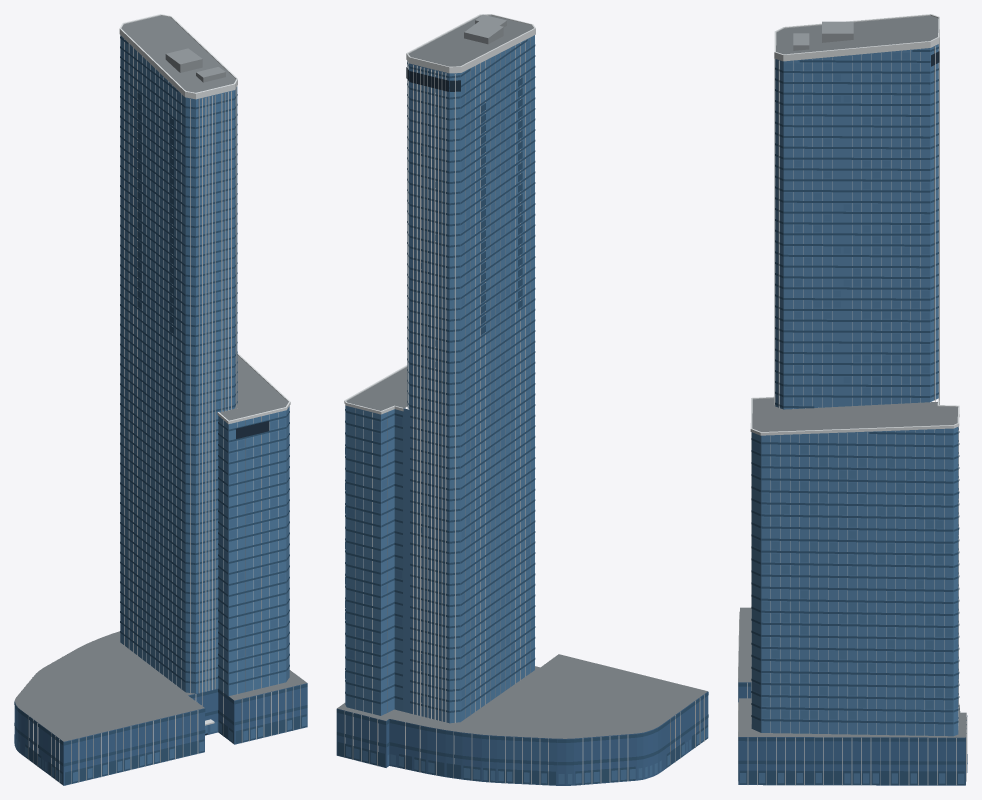
File: stantec-tower-near.glb
The picture shows the model from 3 angles, left to right: view 1: azimuth 30°, elevation 25°; view 2: azimuth 150°, elevation 25°; view 3: azimuth 270°, elevation 25°; orthographic projection. The views are drawn at different scales.
Visible parts, largest first — view 1: stantec-tower-0-glass, stantec-tower-0-spandrel, stantec-tower-0-fin, stantec-tower-0-roof, stantec-tower-0-glow, stantec-tower-0-podium, stantec-tower-0-metal; view 2: stantec-tower-0-glass, stantec-tower-0-spandrel, stantec-tower-0-fin, stantec-tower-0-roof, stantec-tower-0-podium, stantec-tower-0-glow, stantec-tower-0-metal, stantec-tower-0-louvre; view 3: stantec-tower-0-glass, stantec-tower-0-spandrel, stantec-tower-0-glow, stantec-tower-0-fin, stantec-tower-0-roof, stantec-tower-0-podium, stantec-tower-0-metal.
Part boxes in pixels (bbox=[...]): stantec-tower-0-glass: bbox=[120, 35, 289, 695]; stantec-tower-0-spandrel: bbox=[14, 36, 307, 784]; stantec-tower-0-fin: bbox=[24, 14, 300, 784]; stantec-tower-0-roof: bbox=[15, 15, 306, 741]; stantec-tower-0-glow: bbox=[14, 46, 306, 782]; stantec-tower-0-podium: bbox=[14, 683, 307, 785]; stantec-tower-0-metal: bbox=[165, 48, 225, 82]; stantec-tower-0-glass: bbox=[345, 35, 534, 723]; stantec-tower-0-spandrel: bbox=[336, 39, 708, 785]; stantec-tower-0-fin: bbox=[344, 14, 704, 785]; stantec-tower-0-roof: bbox=[337, 15, 707, 738]; stantec-tower-0-podium: bbox=[336, 691, 708, 785]; stantec-tower-0-glow: bbox=[345, 41, 708, 783]; stantec-tower-0-metal: bbox=[464, 14, 506, 44]; stantec-tower-0-louvre: bbox=[406, 67, 460, 91]; stantec-tower-0-glass: bbox=[751, 44, 958, 736]; stantec-tower-0-spandrel: bbox=[738, 46, 967, 784]; stantec-tower-0-glow: bbox=[740, 53, 967, 783]; stantec-tower-0-fin: bbox=[738, 14, 967, 785]; stantec-tower-0-roof: bbox=[738, 15, 966, 737]; stantec-tower-0-podium: bbox=[738, 682, 966, 785]; stantec-tower-0-metal: bbox=[793, 21, 853, 50].
Bounding box in the file's own units: 97.89 × 251 × 72.74.
